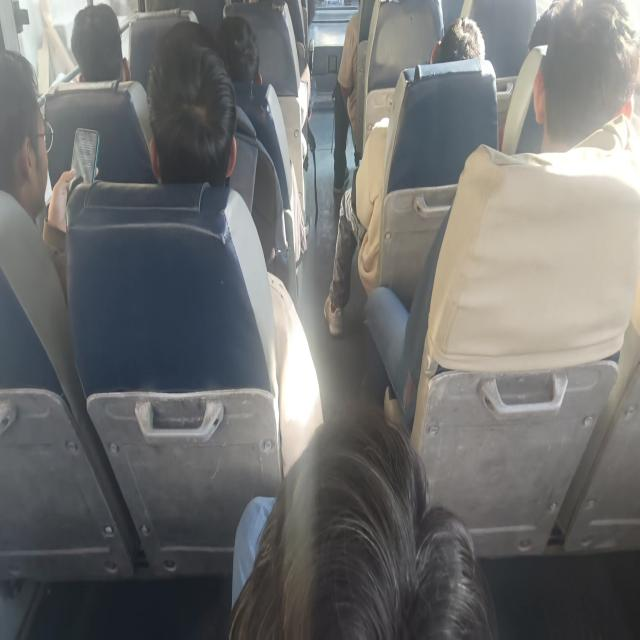person: (363, 0, 639, 425), (146, 20, 324, 474), (228, 400, 497, 638), (323, 16, 486, 336), (214, 15, 307, 265), (332, 0, 444, 194), (0, 47, 77, 304), (529, 0, 639, 155), (146, 20, 237, 186), (332, 10, 360, 194), (70, 2, 131, 82), (214, 15, 260, 84), (432, 16, 486, 64)
